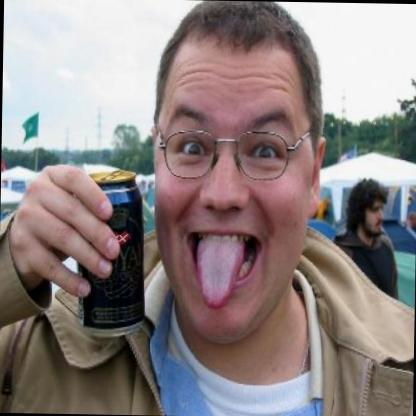alumunium_can: (78, 168, 148, 342)
